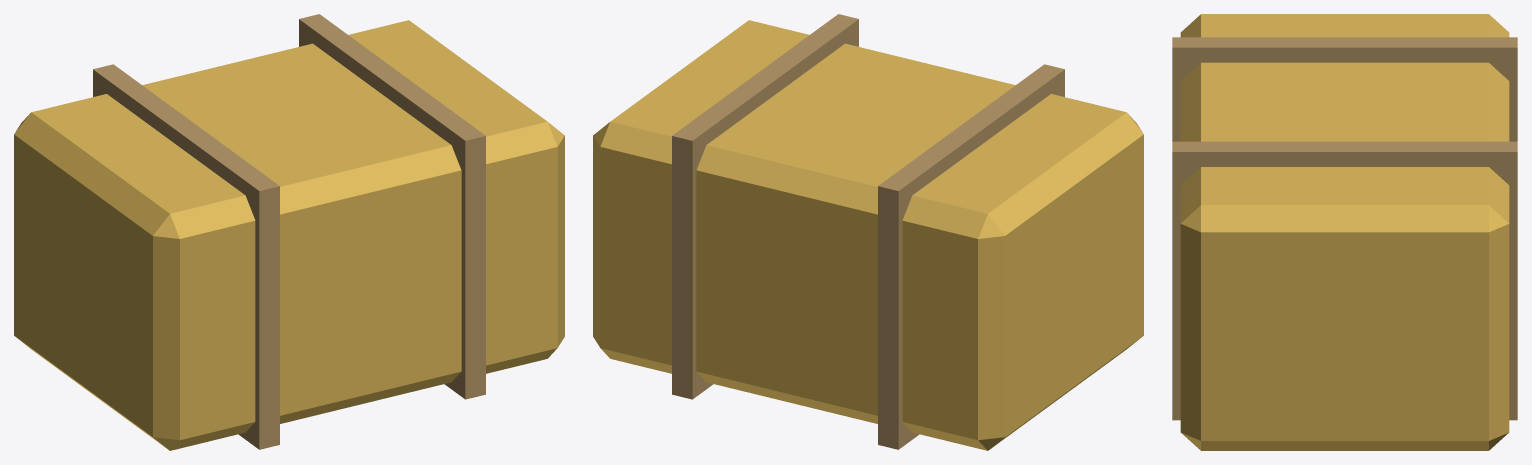
Rendered from Heu.fbx.
3 renders of one model, left to right at view 1: azimuth 30°, elevation 25°; view 2: azimuth 150°, elevation 25°; view 3: azimuth 270°, elevation 25°, orthographic. The views are drawn at different scales.
Parts seen in each view (by area): view 1: Heu; view 2: Heu; view 3: Heu.
Boxes of the visible parts, x1,y1,x2,y2 form: Heu: [14, 14, 564, 450]; Heu: [593, 14, 1143, 450]; Heu: [1172, 14, 1517, 450].
Bounding box in the file's own units: 1.2 × 0.72 × 0.84.
